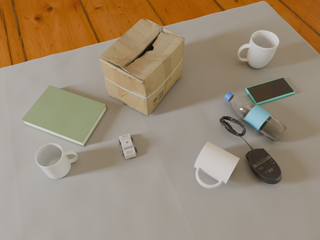book: (21, 86, 107, 147)
bottle: (224, 92, 287, 142)
box: (100, 19, 184, 116)
cup: (194, 142, 239, 188), (238, 31, 279, 68), (36, 143, 77, 179)
mouse: (246, 146, 281, 184)
phone: (245, 78, 295, 105)
toy_car: (119, 134, 137, 159)
